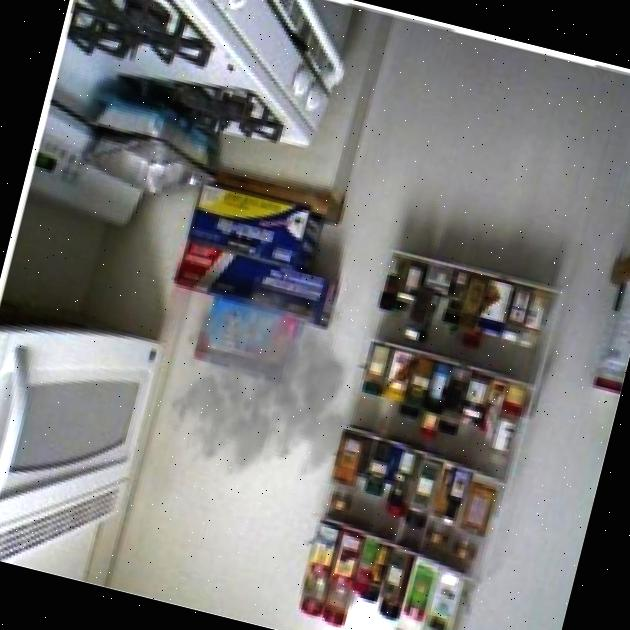smoke: (146, 251, 395, 508)
